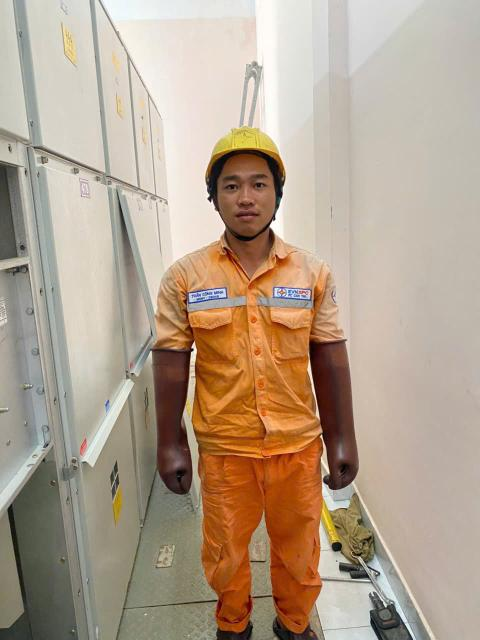gloves: (136, 330, 212, 520), (300, 326, 379, 498)
helmet: (204, 124, 287, 187)
